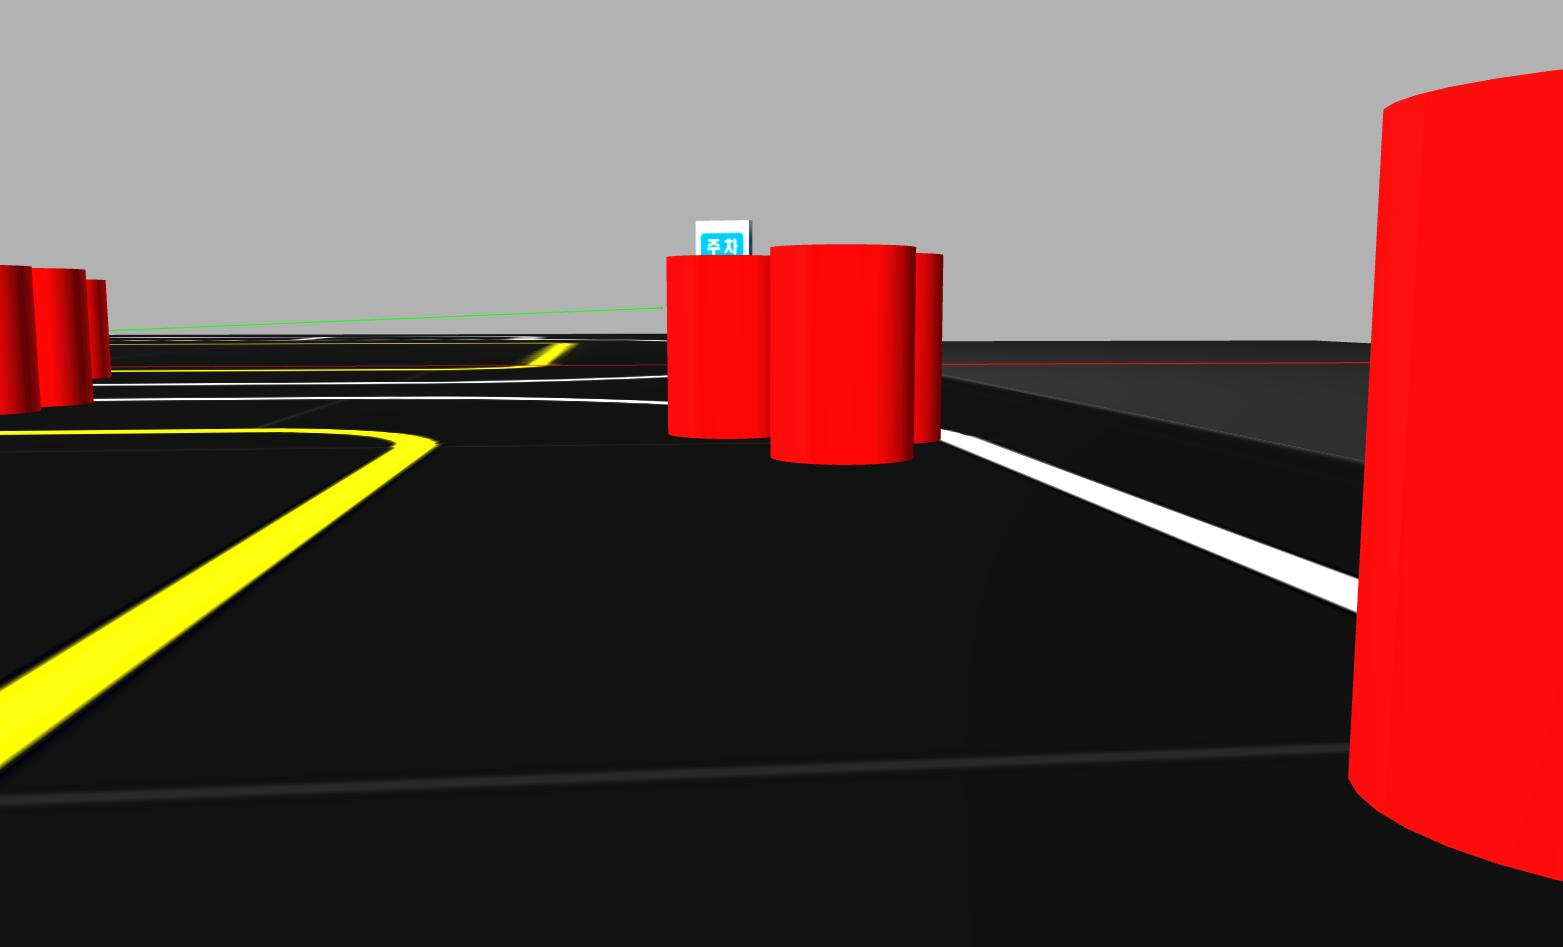obstacle: (1335, 55, 1563, 892), (761, 236, 920, 469), (661, 254, 781, 442), (26, 264, 100, 409), (911, 250, 949, 448), (1, 256, 42, 422), (74, 276, 123, 381)
